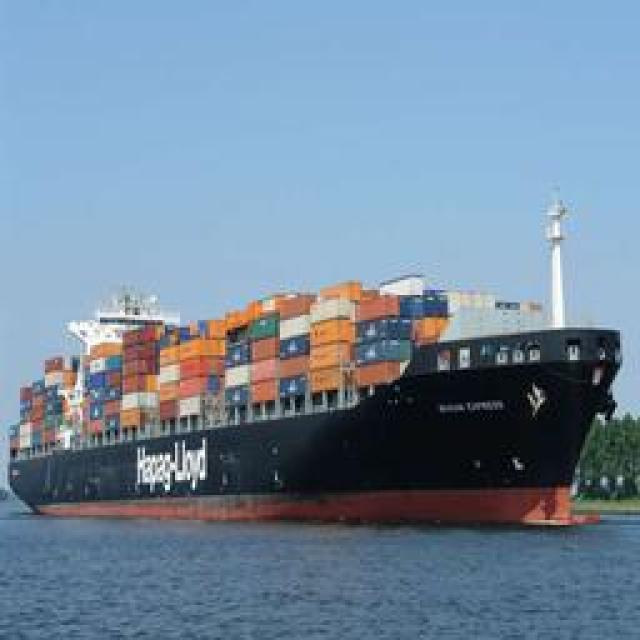ship2: (6, 185, 624, 531)
